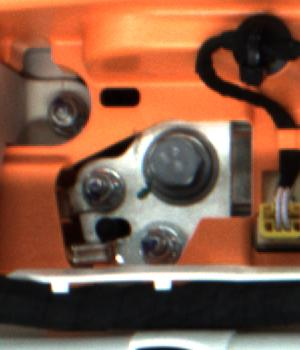nut_b: (136, 118, 227, 207)
screw_s: (38, 94, 89, 130), (77, 168, 119, 211), (141, 223, 180, 267)
